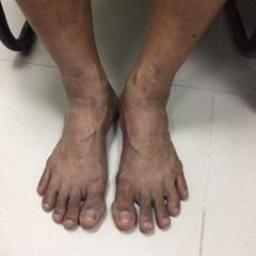Dorsal View -Both Feet-: (26, 50, 200, 243)
